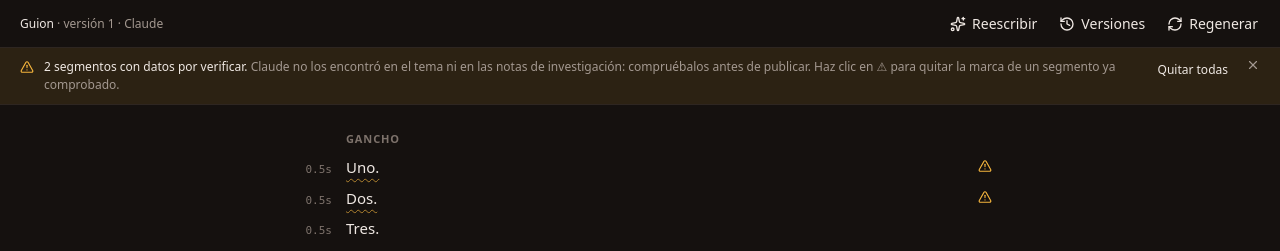
Scenario: datos por verificar en el guion › un clic en ⚠ quita la marca del segmento
The image size is (1280, 251).
Click the button named "Marcar dato como comprobado" in the row of "Uno.": (985,166) [976,157,994,175]
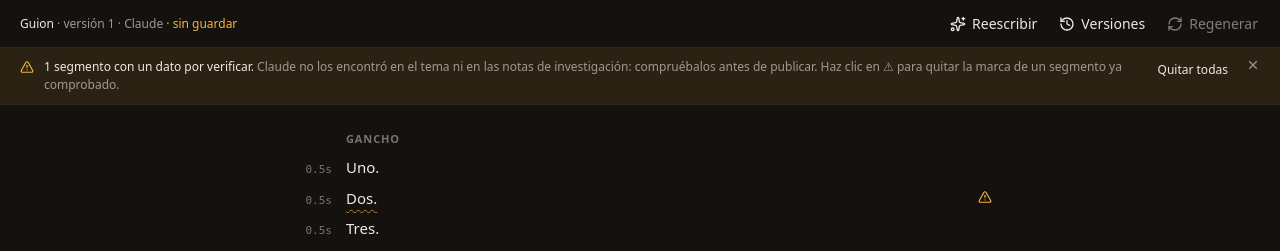
Expected: the element that starts with "segmento con un dato" shows "1 segmento con un dato por verificar.", [0,48,1279,105]
